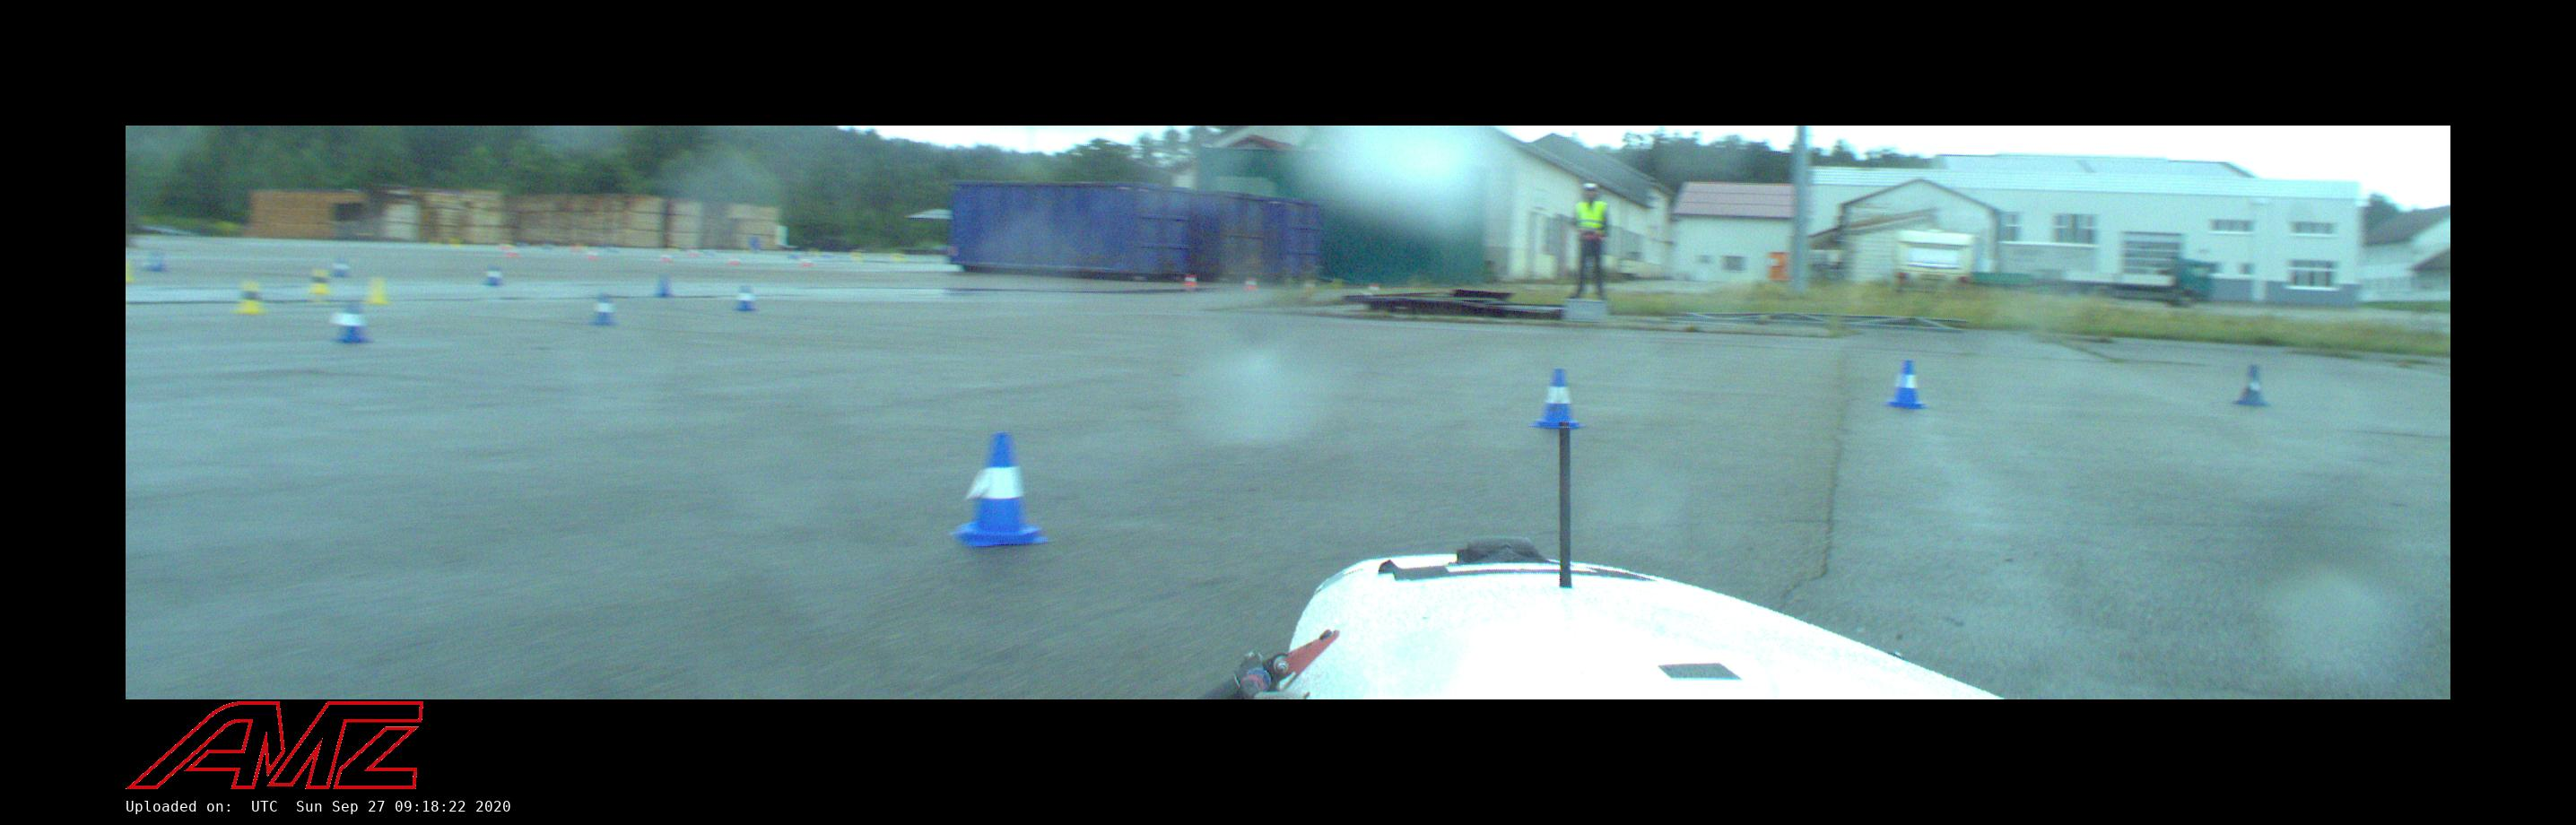blue_cone: (948, 432, 1048, 546), (1529, 370, 1582, 427), (1886, 360, 1927, 409), (2234, 366, 2270, 406), (330, 302, 365, 340), (590, 296, 611, 324), (654, 271, 674, 297), (733, 288, 754, 309), (145, 248, 164, 271), (332, 253, 350, 278), (485, 268, 503, 286)
orange_cone: (800, 253, 813, 268), (728, 251, 741, 266), (506, 243, 519, 258), (659, 250, 672, 263), (587, 247, 600, 260), (1186, 274, 1198, 288), (570, 240, 582, 251), (1245, 278, 1257, 289), (688, 245, 698, 258), (1368, 283, 1380, 293)
yellow_cone: (235, 283, 263, 312), (365, 278, 386, 302), (310, 271, 327, 291), (127, 258, 135, 284), (450, 233, 462, 250), (892, 250, 905, 263), (851, 248, 862, 261)
